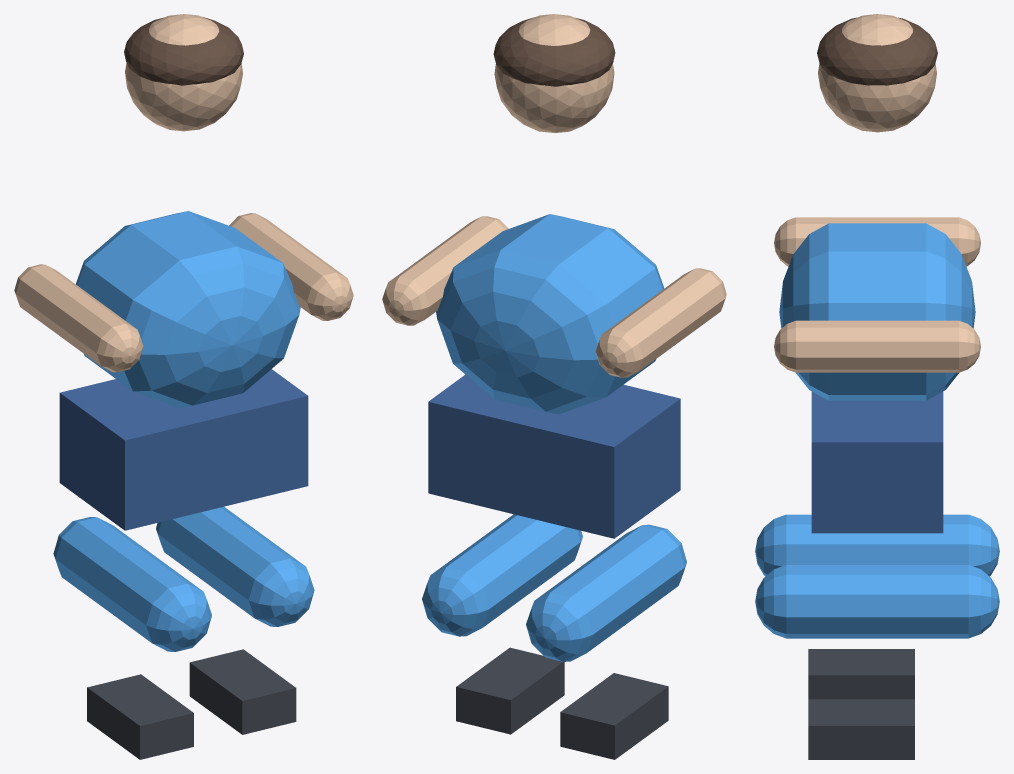
File: player-lod.glb
The picture shows the model from 3 angles, left to right: view 1: azimuth 30°, elevation 25°; view 2: azimuth 150°, elevation 25°; view 3: azimuth 270°, elevation 25°; orthographic projection.
Parts seen in each view (by area): view 1: Torso, Shorts, LeftLeg, RightLeg, LeftArm, RightBoot, LeftBoot, Head, Hair, RightArm; view 2: Torso, Shorts, LeftLeg, RightLeg, LeftArm, LeftBoot, RightBoot, Head, Hair, RightArm; view 3: Torso, Shorts, RightLeg, RightArm, LeftLeg, Head, RightBoot, LeftBoot, Hair, LeftArm.
Part boxes in pixels (x1=…): Torso: x1=76, y1=211, x2=300, y2=408; Shorts: x1=59, y1=369, x2=308, y2=530; LeftLeg: x1=53, y1=517, x2=211, y2=651; RightLeg: x1=156, y1=506, x2=314, y2=626; LeftArm: x1=14, y1=264, x2=143, y2=372; RightBoot: x1=189, y1=649, x2=296, y2=734; LeftBoot: x1=87, y1=674, x2=193, y2=759; Head: x1=125, y1=14, x2=242, y2=131; Hair: x1=124, y1=17, x2=243, y2=85; RightArm: x1=229, y1=213, x2=353, y2=320; Torso: x1=436, y1=214, x2=664, y2=414; Shorts: x1=428, y1=374, x2=680, y2=538; LeftLeg: x1=526, y1=524, x2=686, y2=661; RightLeg: x1=422, y1=514, x2=582, y2=636; LeftArm: x1=595, y1=268, x2=726, y2=377; LeftBoot: x1=560, y1=673, x2=668, y2=759; RightBoot: x1=456, y1=647, x2=564, y2=734; Head: x1=494, y1=14, x2=614, y2=132; Hair: x1=493, y1=17, x2=615, y2=86; RightArm: x1=382, y1=216, x2=508, y2=325; Torso: x1=779, y1=223, x2=975, y2=400; Shorts: x1=811, y1=391, x2=943, y2=533; RightLeg: x1=755, y1=565, x2=999, y2=638; RightArm: x1=774, y1=320, x2=980, y2=372; LeftLeg: x1=755, y1=514, x2=999, y2=576; Head: x1=818, y1=14, x2=936, y2=132; RightBoot: x1=808, y1=699, x2=914, y2=759; LeftBoot: x1=808, y1=649, x2=914, y2=699; Hair: x1=817, y1=17, x2=937, y2=85; LeftArm: x1=774, y1=217, x2=980, y2=266.
Bounding box in the file's own units: 0.9474 × 2.47 × 0.78.
